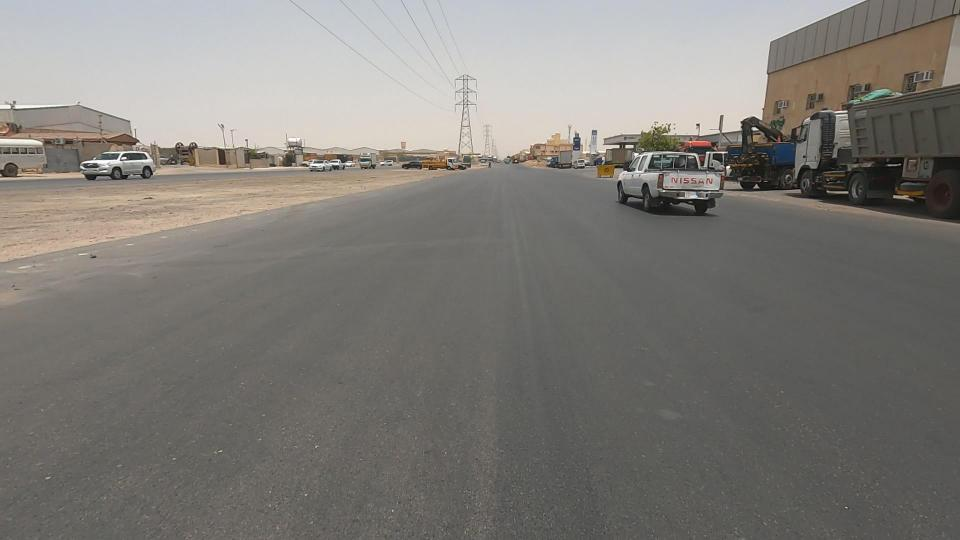CONSTRUCTION_ROAD: (14, 167, 261, 264), (198, 158, 328, 231)
